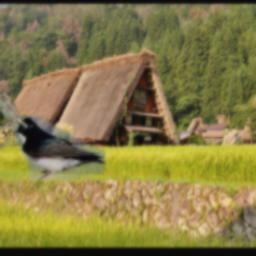Sparrow: (0, 92, 29, 130)
Swallow: (15, 116, 105, 181)
